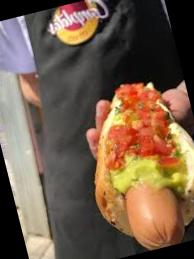Completos: (69, 65, 194, 259)
